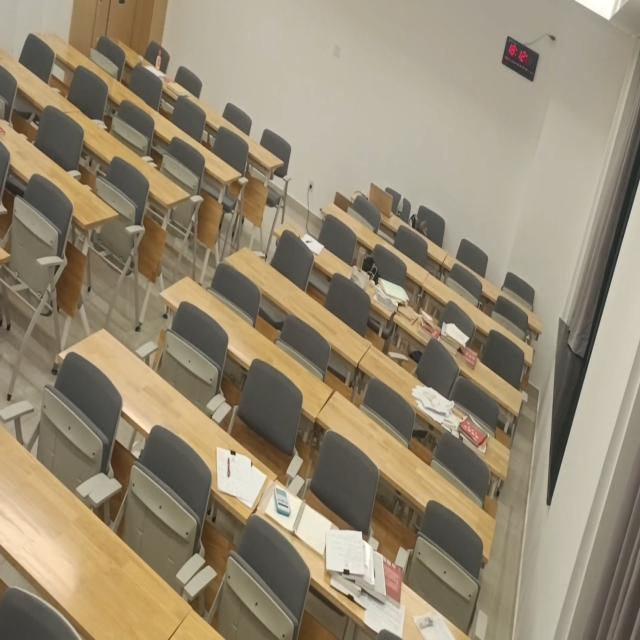Non-empty: (57, 325, 277, 518), (250, 479, 469, 640), (355, 343, 512, 476), (392, 302, 522, 419), (277, 222, 402, 319), (104, 34, 204, 110), (356, 189, 447, 266)
empty: (0, 418, 192, 640), (321, 389, 497, 562), (165, 274, 334, 425), (0, 130, 118, 229), (424, 272, 534, 368), (315, 200, 430, 282), (130, 102, 242, 181), (444, 253, 544, 338)
